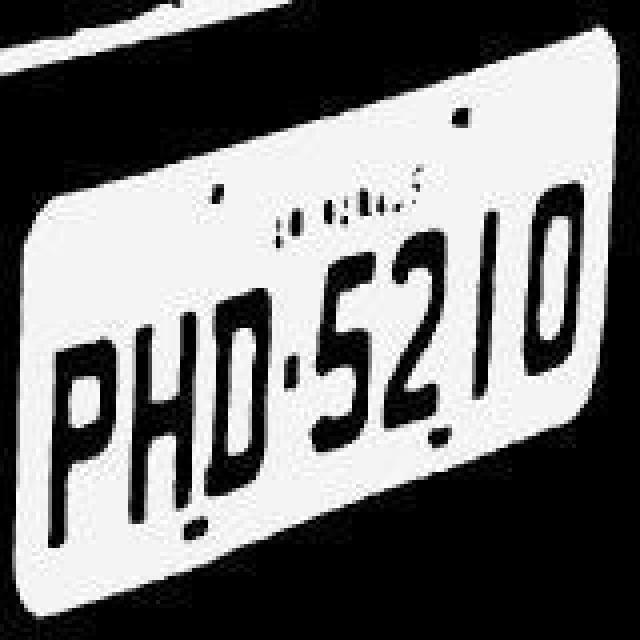1: (464, 186, 504, 430)
2: (384, 216, 448, 440)
5: (304, 244, 376, 468)
D: (202, 264, 278, 504)
H: (122, 286, 198, 530)
O: (512, 180, 592, 396)
P: (40, 294, 120, 554)
